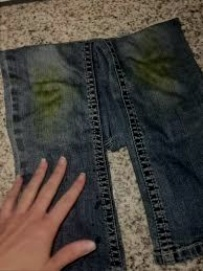earth: (32, 70, 65, 136), (133, 43, 172, 87)
